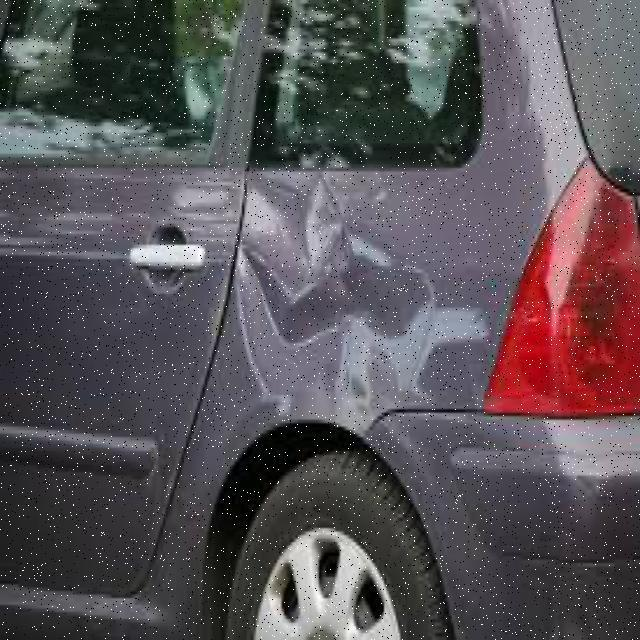quaterpanel-dent: (233, 157, 547, 521)
